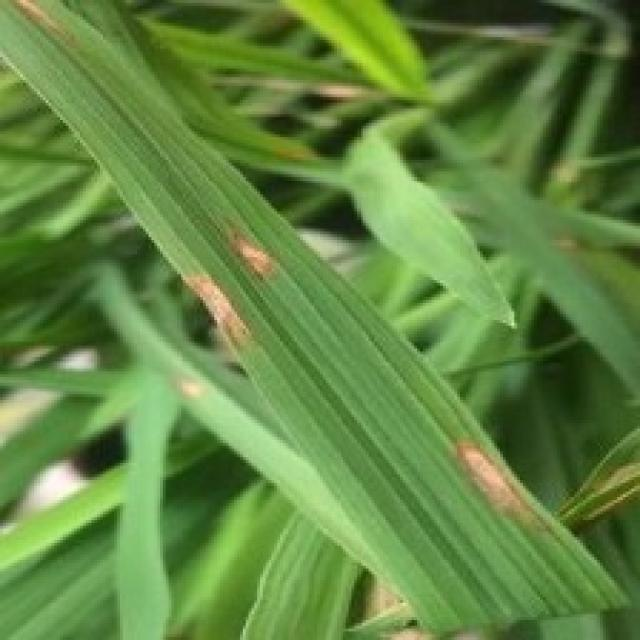Unhealthy: (454, 441, 535, 516), (181, 273, 248, 351), (559, 463, 640, 521), (13, 0, 75, 44), (583, 482, 640, 520), (229, 229, 273, 278), (177, 378, 202, 398)
